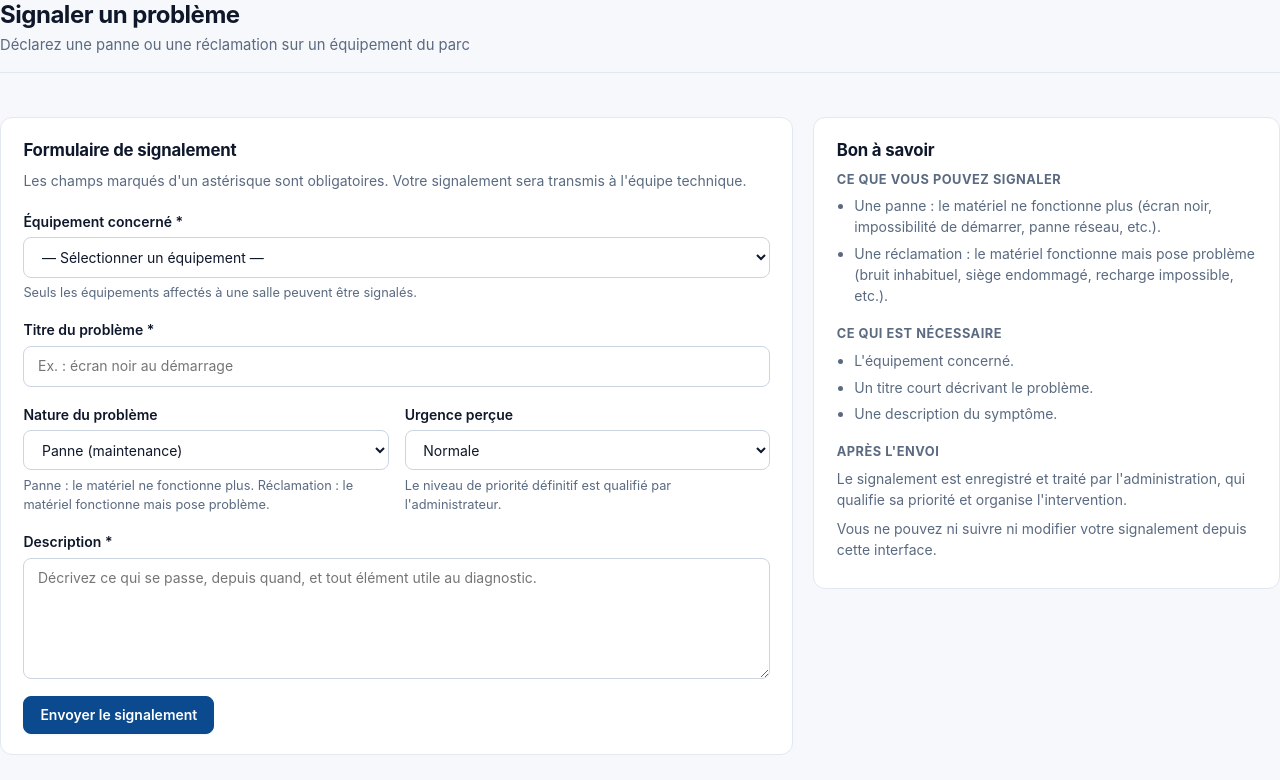
Scenario: TicketPublic.vue › validation et soumission › affiche une erreur sous le titre lorsqu'il est vide
Step 1. Select "Vidéoprojecteur — INV-001" in the dropdown with id "equipement" → (397, 258), box [23,237,770,278]
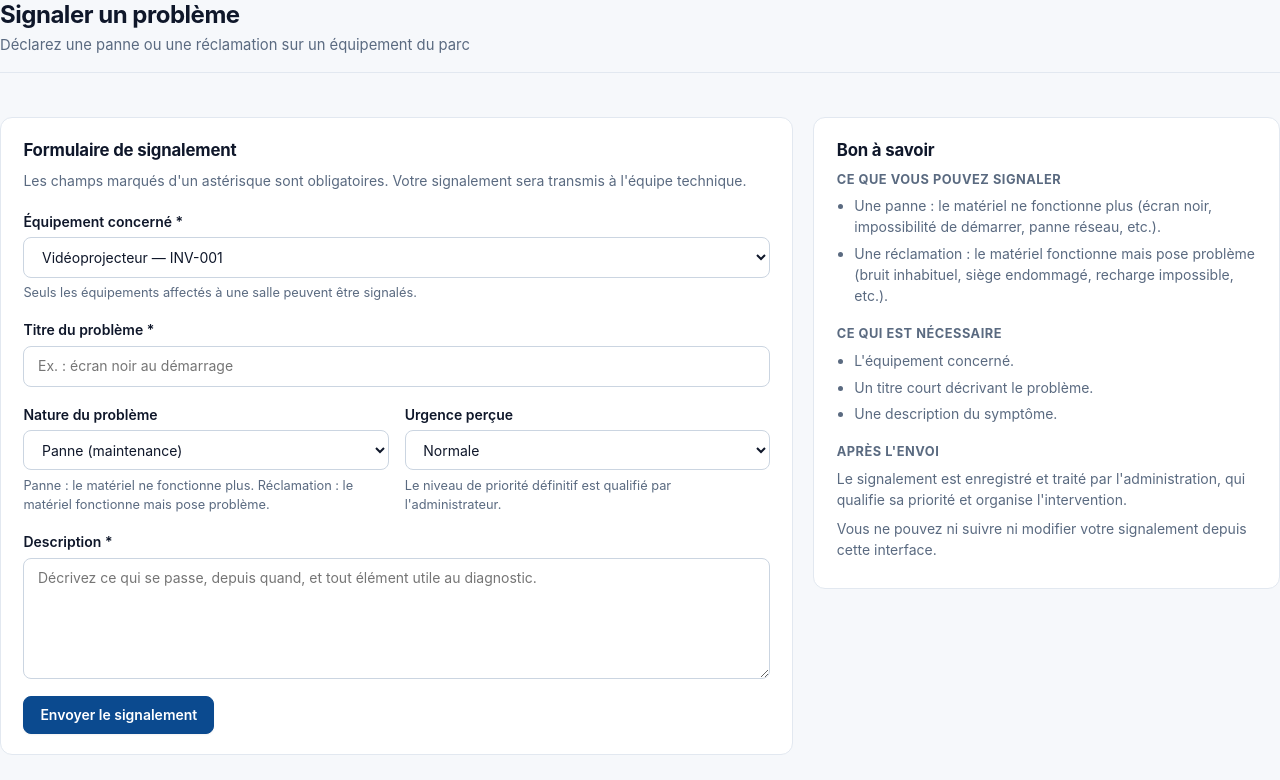
Step 2. Replace the text in the text box with id "description" with "L'écran ne s'allume plus." → (397, 618), box [23,558,770,679]
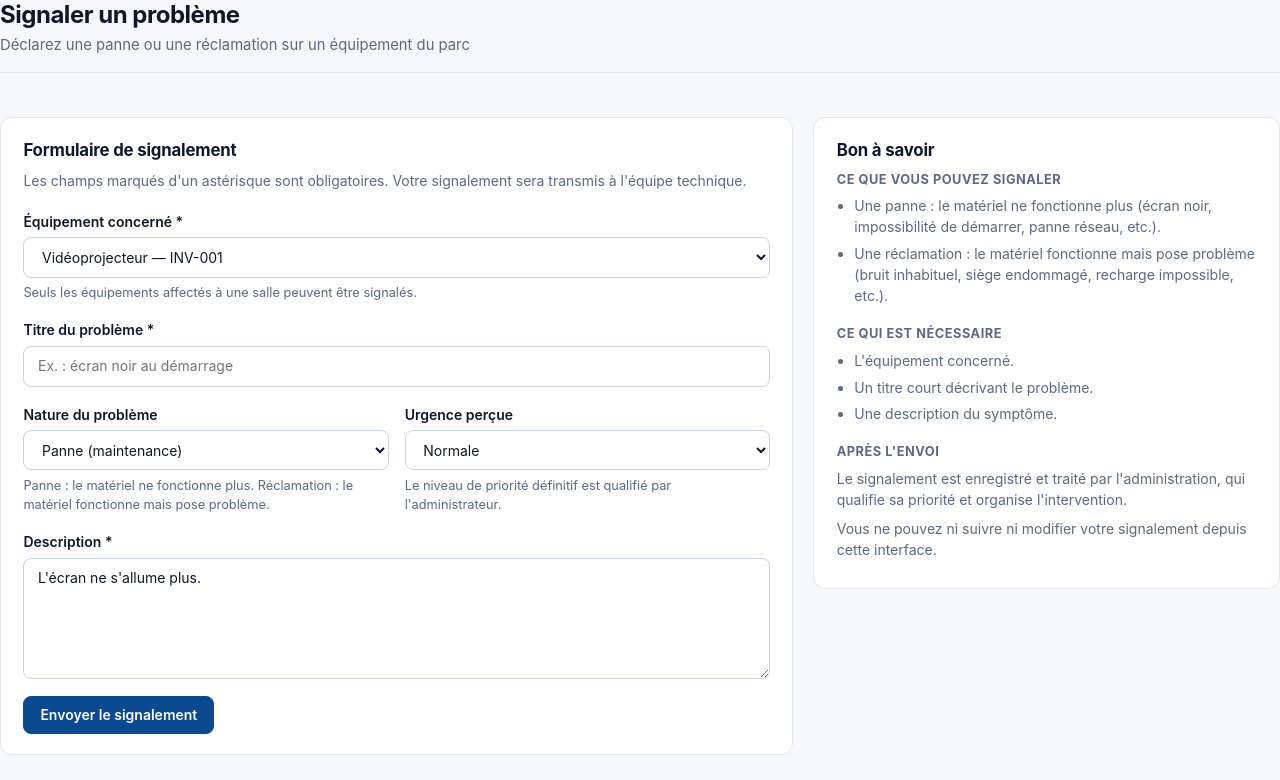
Step 3. Submit the form, box [23,211,770,734]
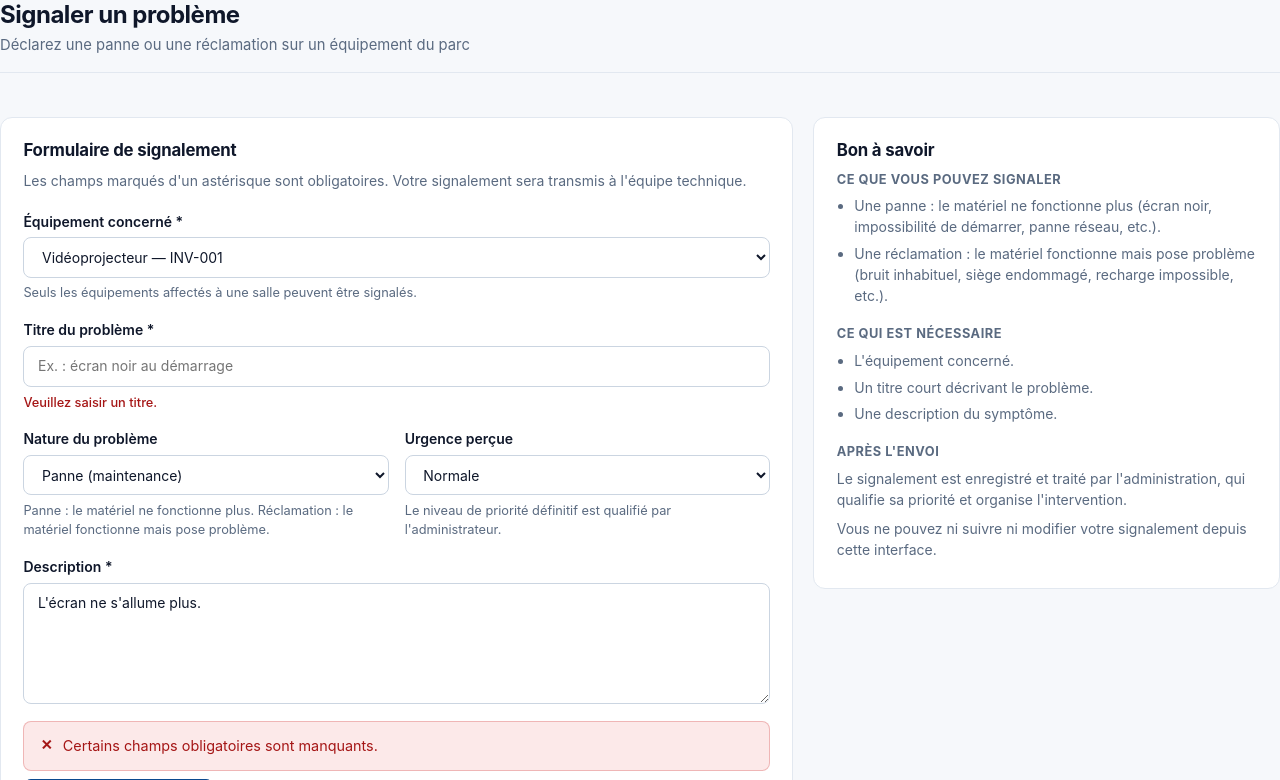
expect the text with id "erreur-titre" reads "Veuillez saisir un titre.": met, box [23,394,157,410]
